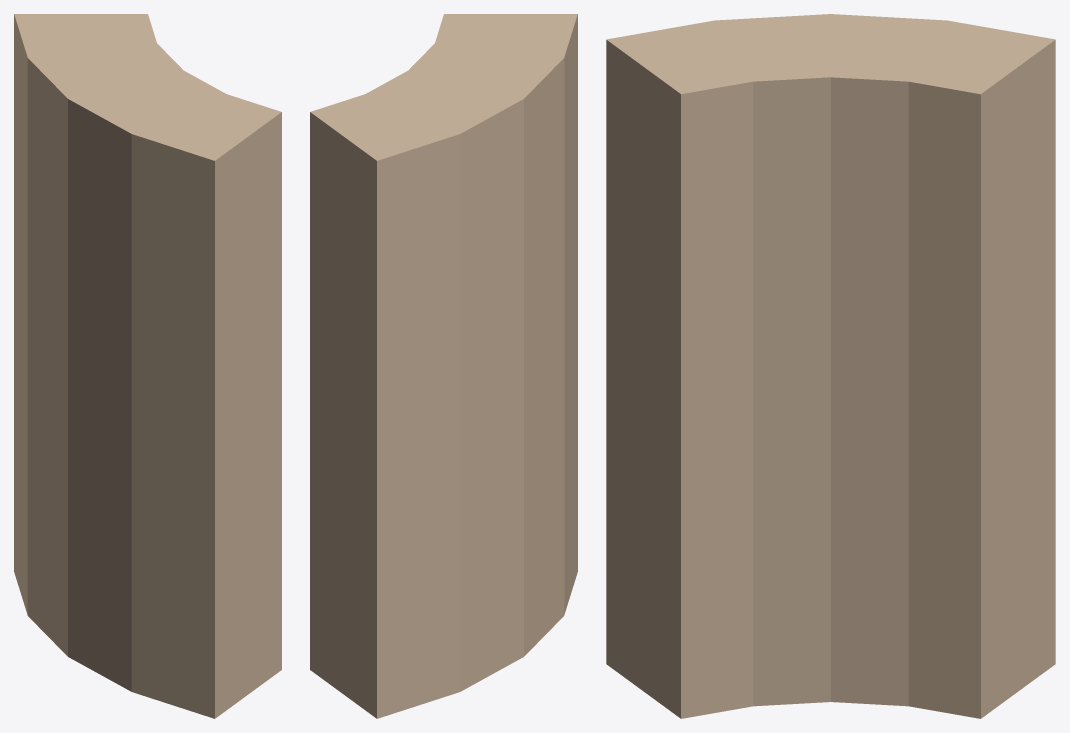
File: big kvant lab wing collider.obj
3 renders of one model, left to right at view 1: azimuth 30°, elevation 25°; view 2: azimuth 150°, elevation 25°; view 3: azimuth 270°, elevation 25°, orthographic. The views are drawn at different scales.
Parts seen in each view (by area): view 1: c; view 2: c; view 3: c.
Part boxes in pixels (bbox=[...]): c: bbox=[14, 14, 281, 718]; c: bbox=[310, 14, 577, 718]; c: bbox=[606, 14, 1055, 718].
Size of the model in its own units: 0.3962 by 1.44 by 0.9375.
